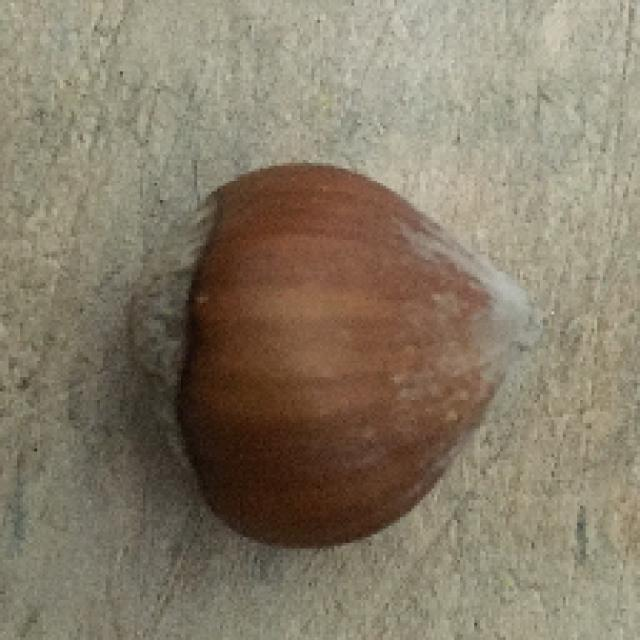qualityHazelnut: (119, 158, 533, 562)
